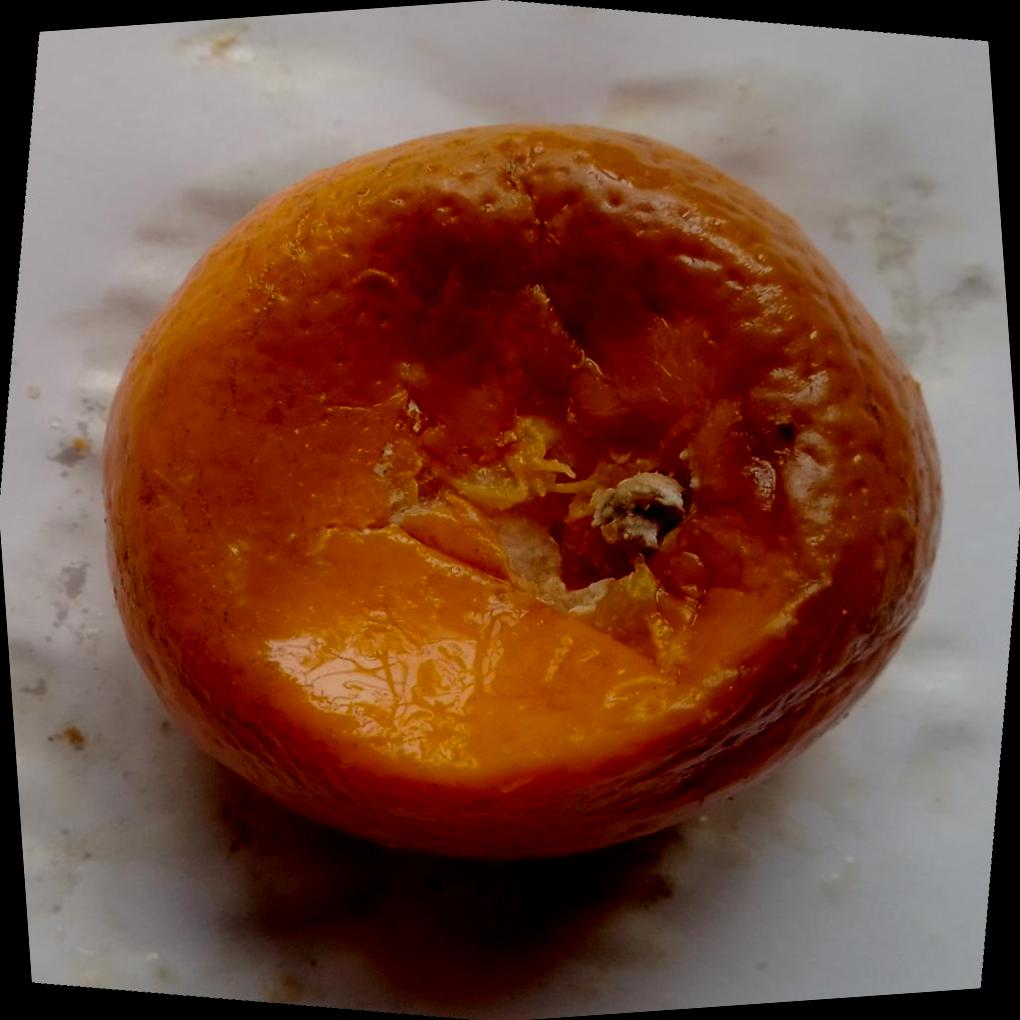FreshOrange: (99, 124, 944, 869)
